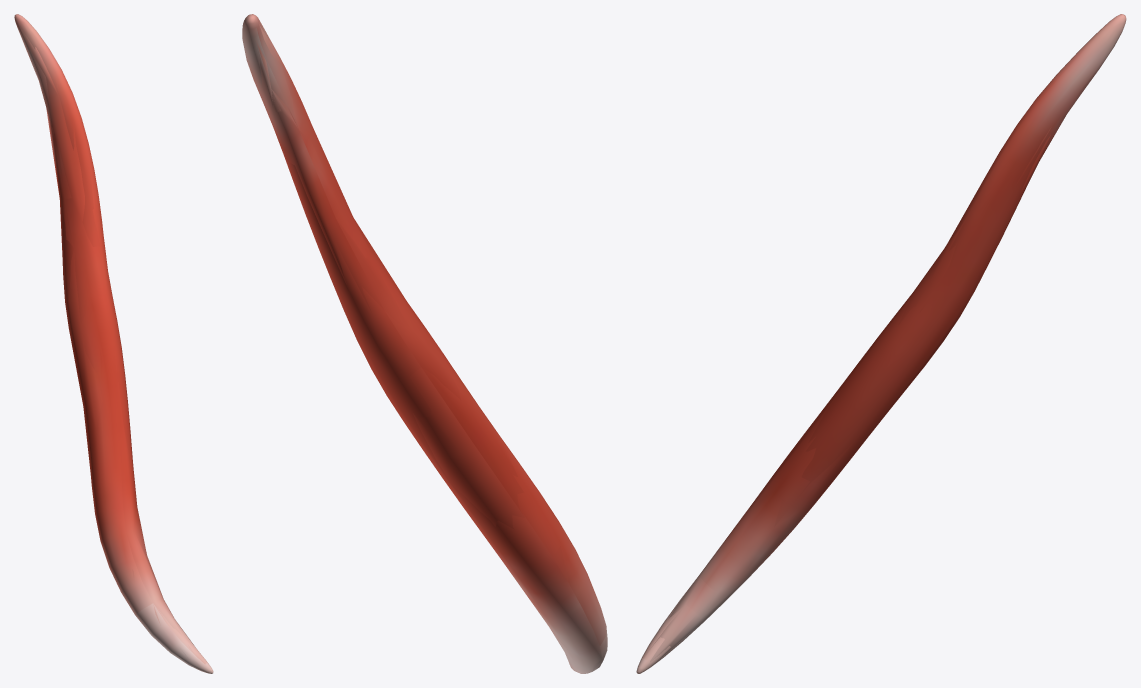
File: R Teres Minor.fbx
The picture shows the model from 3 angles, left to right: view 1: azimuth 30°, elevation 25°; view 2: azimuth 150°, elevation 25°; view 3: azimuth 270°, elevation 25°; orthographic projection. The views are drawn at different scales.
Parts seen in each view (by area): view 1: R Teres Minor, R Teres Minor low; view 2: R Teres Minor, R Teres Minor low; view 3: R Teres Minor, R Teres Minor low.
Part boxes in pixels (x1,y1,x2,y2): R Teres Minor: (14,14,213,673); R Teres Minor low: (18,23,200,659); R Teres Minor: (242,14,607,673); R Teres Minor low: (255,24,605,671); R Teres Minor: (636,14,1126,673); R Teres Minor low: (647,70,1094,665).
Bounding box in the file's own units: 3.47 × 22.26 × 15.03.
